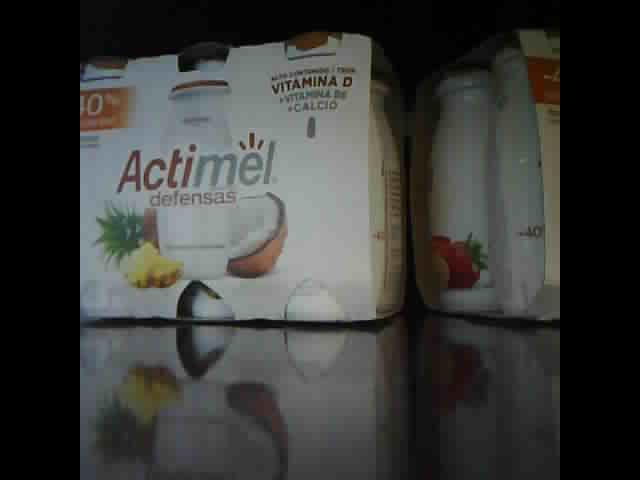actimel: (82, 32, 411, 325), (419, 24, 561, 323)
